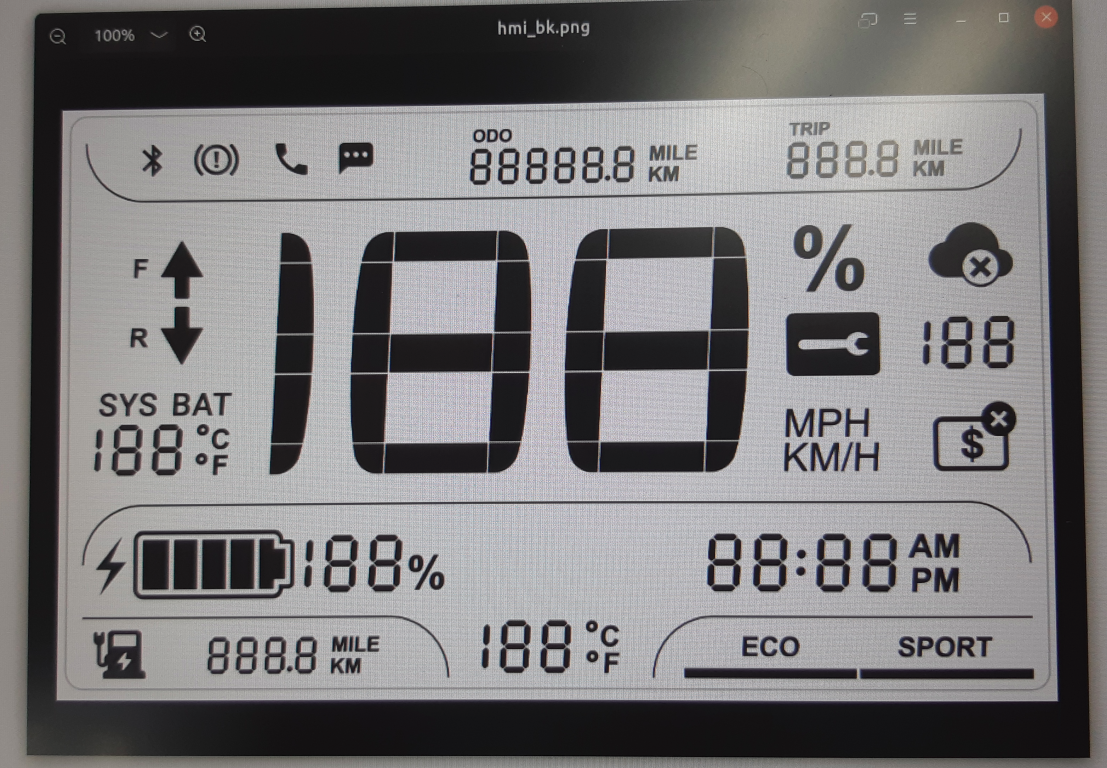bluetooth_on: (138, 140, 170, 181)
braking_on: (191, 140, 242, 180)
calling_on: (271, 138, 313, 178)
connection_lost: (922, 218, 1017, 290)
error_code: (780, 307, 885, 380)
low_battery: (91, 624, 149, 683)
sms_on: (336, 139, 377, 177)
vin_id: (928, 397, 1021, 475)
